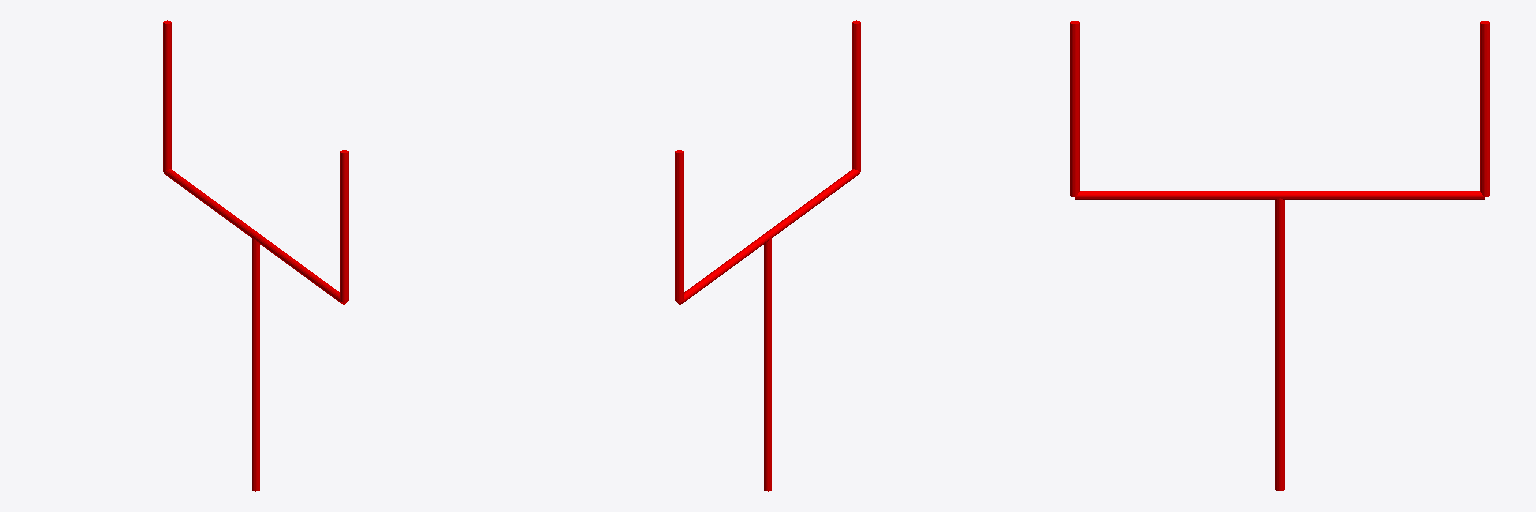
URDF robot description (grasp.urdf):
<?xml version='1.0' encoding='utf-8'?>
<robot name="grasp.urdf">
  <link name="baseLink">
    <contact>
      <lateral_friction value="1.0" />
      <rolling_friction value="0.0" />
    </contact>
    <inertial>
      <origin rpy="0 0 0" xyz="0 0 0" />
       <mass value="0.0" />
       <inertia ixx="1e-3" ixy="0" ixz="0" iyy="1e-3" iyz="0" izz="1e-3" />
    </inertial>
    <visual>
      <origin rpy="0 0 0" xyz="0 0 0" />
      <geometry>
				<mesh filename="grasp.obj" scale="1 1 1" />
      </geometry>
       <material name="red">
        <color rgba="1 0 0 1" />
      </material>
    </visual>
    <collision>
      <origin rpy="0 0 0" xyz="0 0 0" />
      <geometry>
	 	<mesh filename="grasp.obj" scale="1 1 1" />
      </geometry>
    </collision>
  </link>
</robot>

--- What the picture shows (computed from the rendered views, not written in the file) ---
The picture shows the robot from 3 angles, left to right: view 1: azimuth 30°, elevation 25°; view 2: azimuth 150°, elevation 25°; view 3: azimuth 270°, elevation 25°; orthographic projection.
Model grasp.urdf with 1 links and 0 joints (none), rooted at baseLink, posed every joint at zero.
Links seen in each view (by area): view 1: baseLink; view 2: baseLink; view 3: baseLink.
Link boxes in pixels (x1,y1,x2,y2): baseLink: (163, 20, 348, 491); baseLink: (675, 20, 860, 491); baseLink: (1070, 21, 1489, 490).
Size in the robot's own frame: 0.002 by 0.088 by 0.108 metres.
Meshes: 1 distinct files referenced, 1 mesh visuals loaded (1 OBJ).
